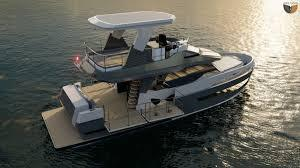Ship: (43, 12, 255, 148)
